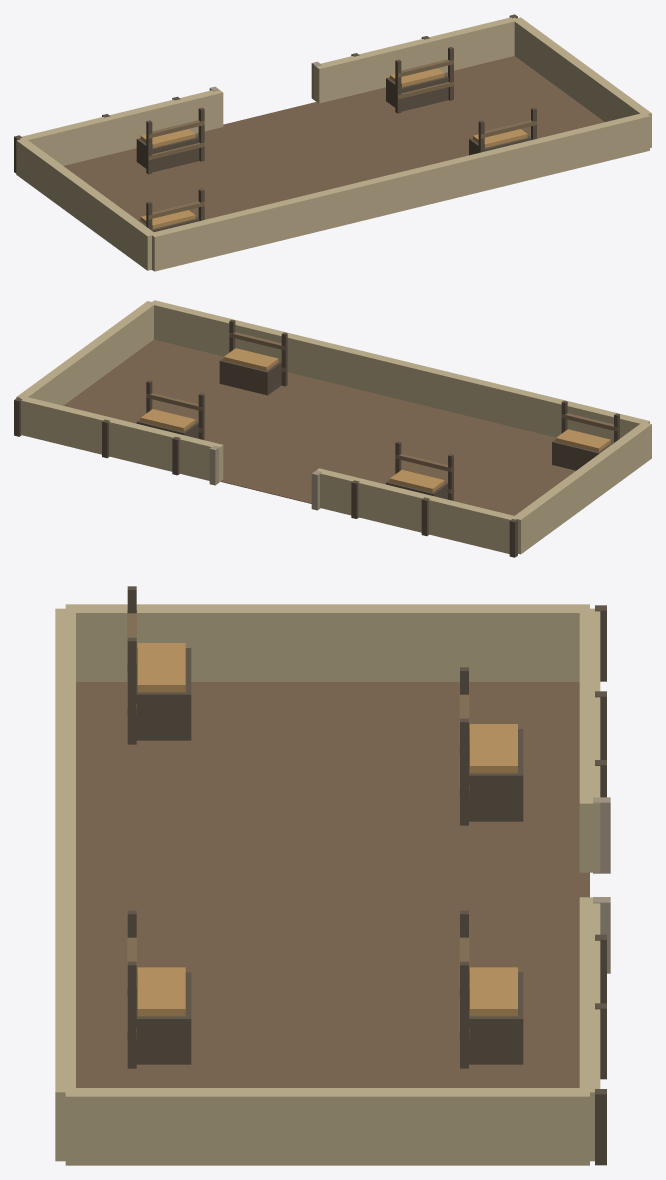
Rendered from TownEx_Stable_Structure.fbx.
3 views of the same model, one above another, from view 1: azimuth 30°, elevation 25°; view 2: azimuth 150°, elevation 25°; view 3: azimuth 270°, elevation 25° (orthographic). The views are drawn at different scales.
Visible parts, largest first — view 1: TownEx_Stable_Structure; view 2: TownEx_Stable_Structure; view 3: TownEx_Stable_Structure.
Part boxes in pixels (x1,y1,x2,y2): TownEx_Stable_Structure: (14,14,651,271); TownEx_Stable_Structure: (14,300,651,557); TownEx_Stable_Structure: (55,586,610,1165).
Size of the model in its own units: 15.78 by 1.56 by 7.52.
